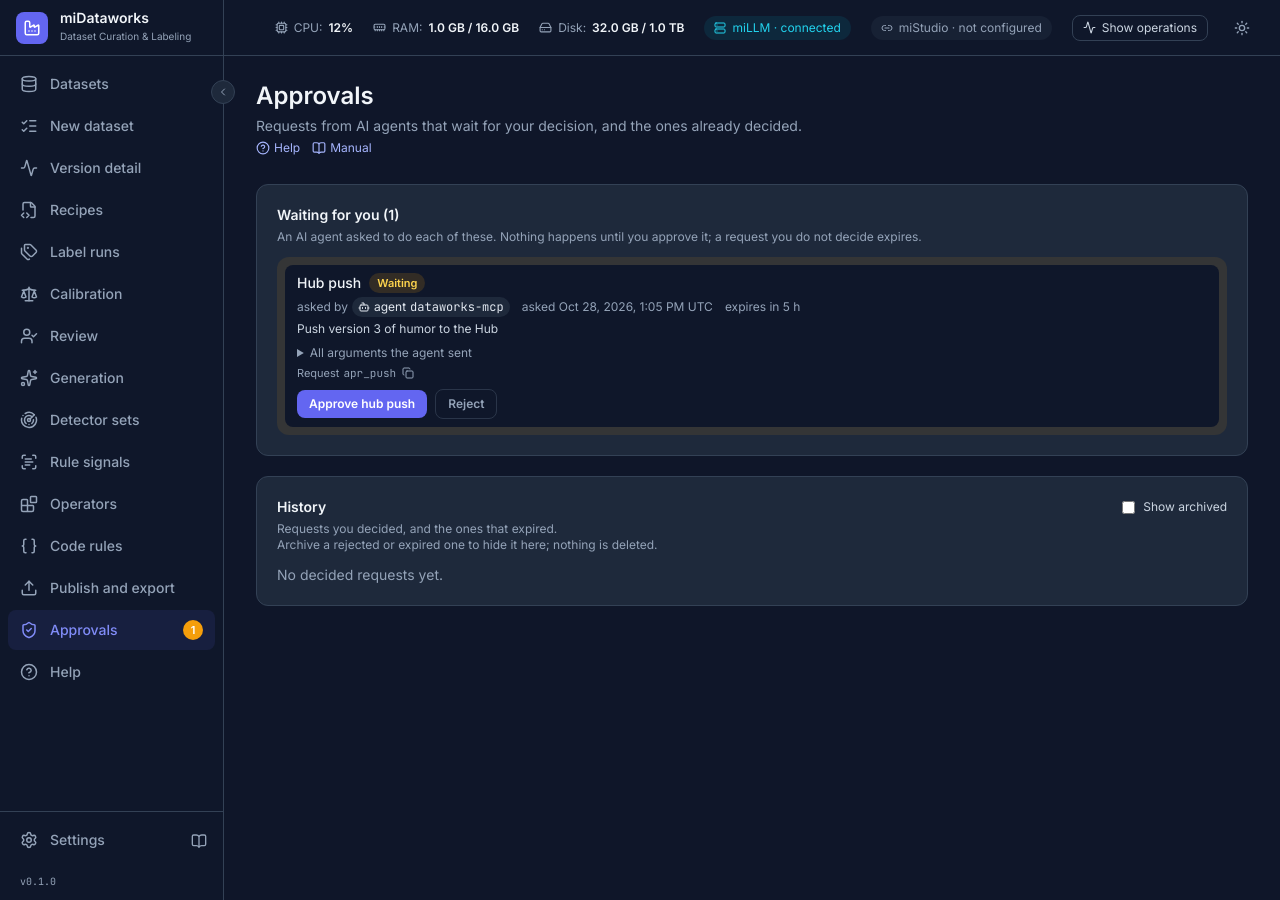
Test: History (A4) › a rejected request with a typed reason appears in History with the shared columns
The width and height of the screenshot is (1280, 900).
Expected: the heading "Waiting for you (1)" is shown, [277,206,399,223]
Expected: the heading "History" is shown, [277,497,326,517]
Click the button "Reject": (466, 404) [435,389,497,419]
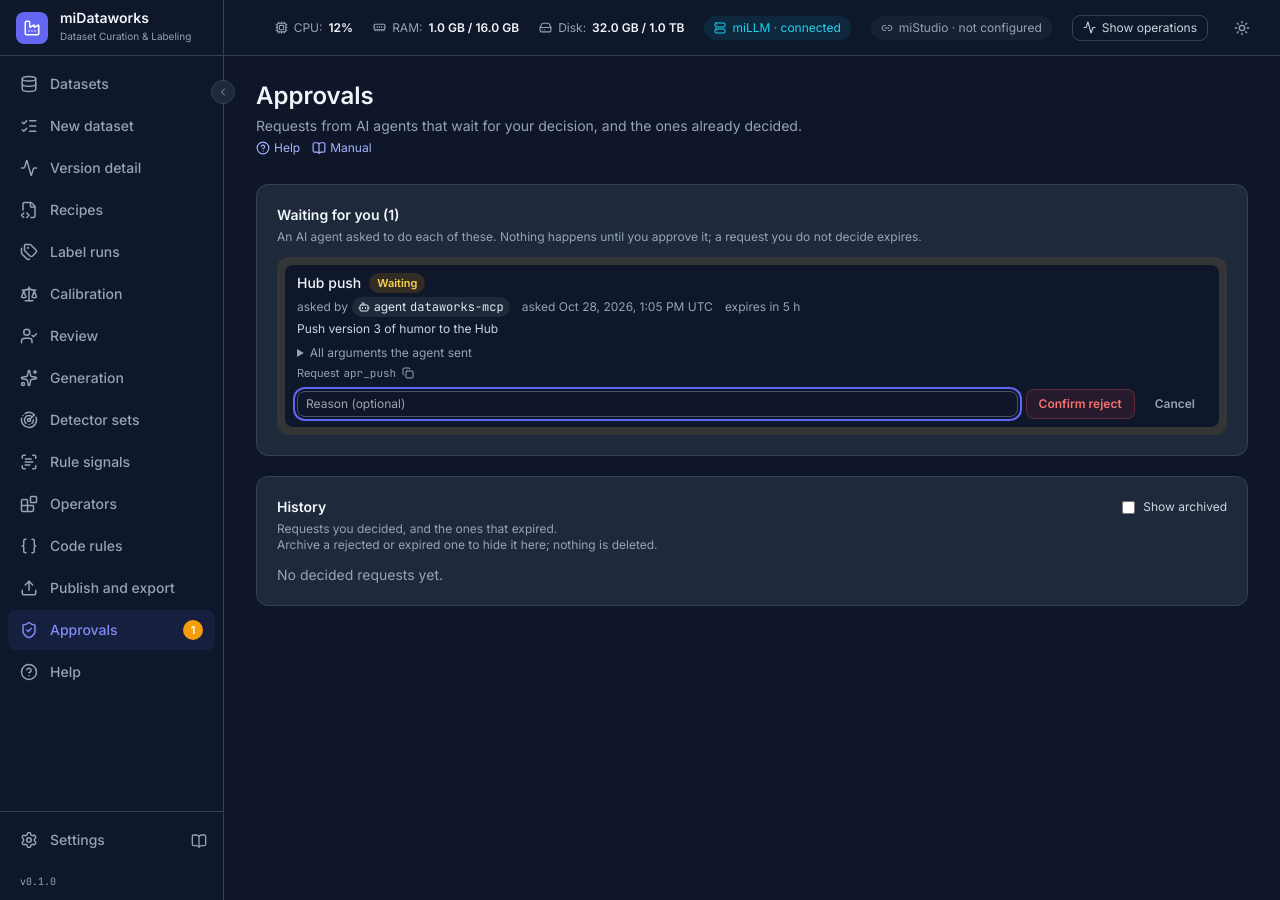
In the field labelled "Reason (optional)": (657, 404) [297,391,1018,417], type "x"
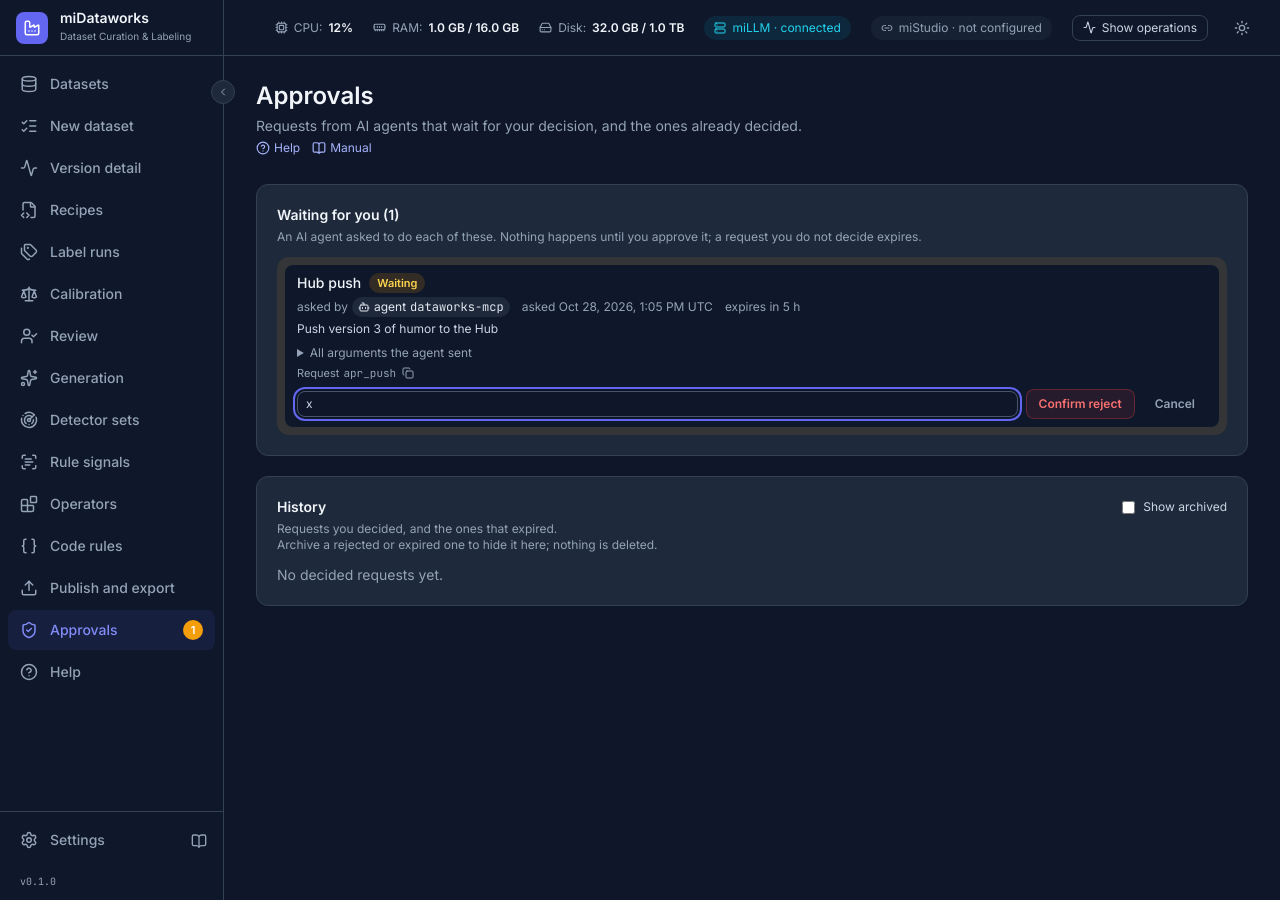
Click the button "Confirm reject": (1080, 404) [1026,389,1135,419]
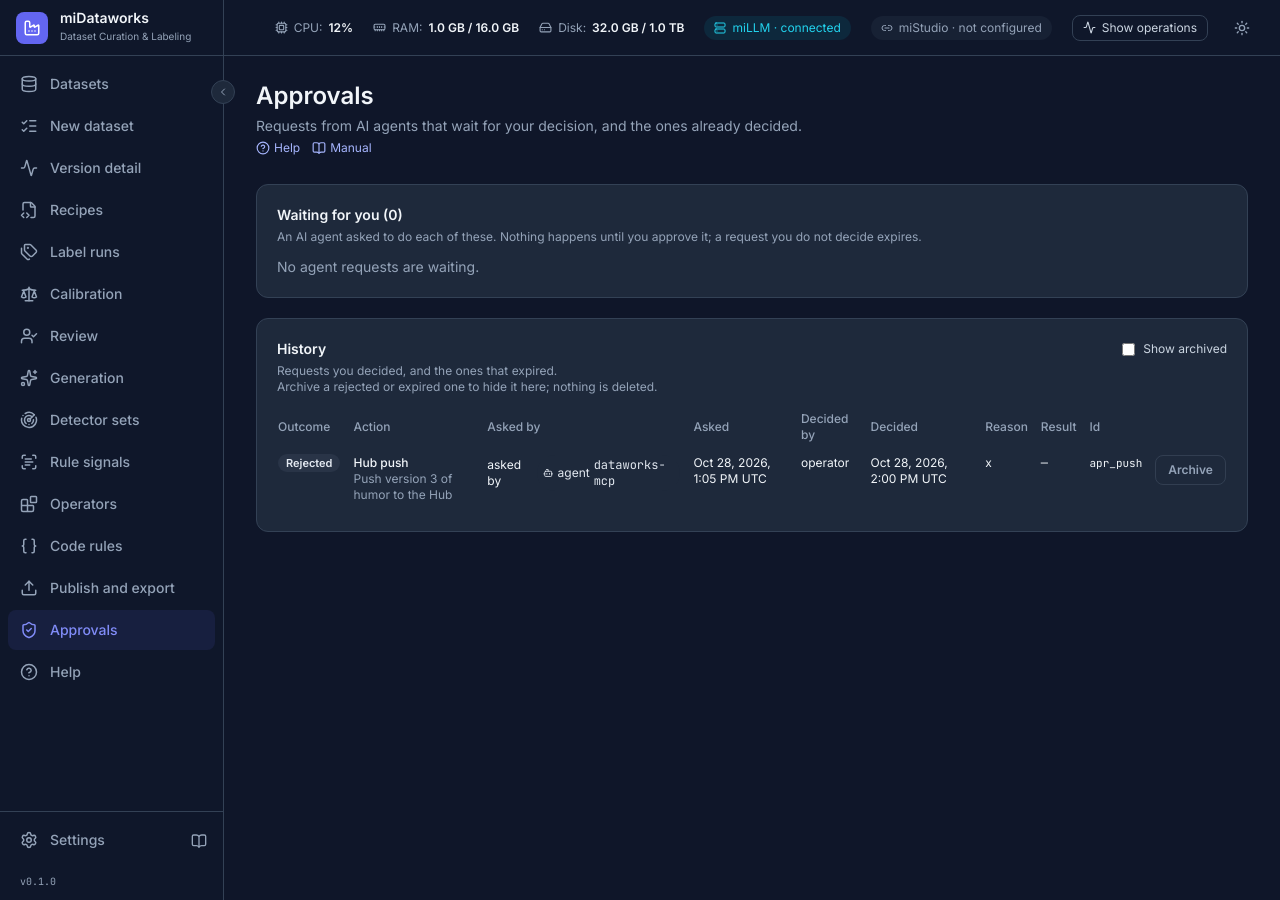
Now the heading "Waiting for you (0)" is shown, box [277,206,403,223]
Now the text "No agent requests are waiting." is shown, box [277,258,479,275]
Now the cell "Rejected" is shown, box [277,447,352,511]
